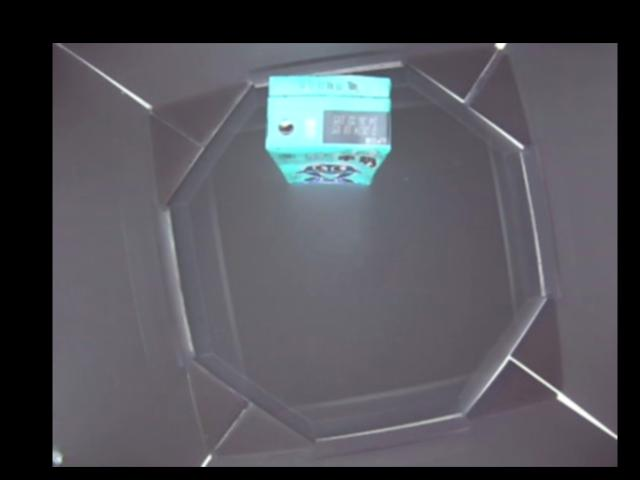Bottle: (267, 73, 393, 186)
